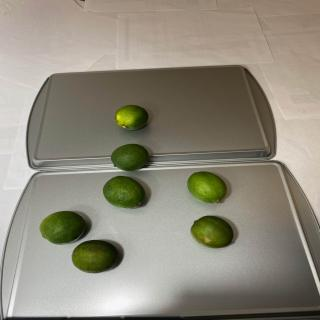Chilli: (190, 215, 234, 249)
Lemon: (71, 240, 119, 274), (39, 210, 86, 244), (102, 175, 146, 209), (187, 171, 227, 203), (110, 143, 149, 171), (114, 104, 149, 130)
